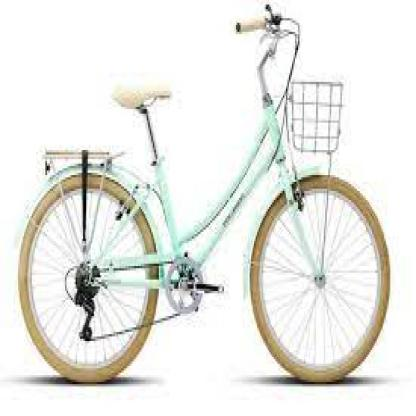Bike: (15, 0, 395, 389)
